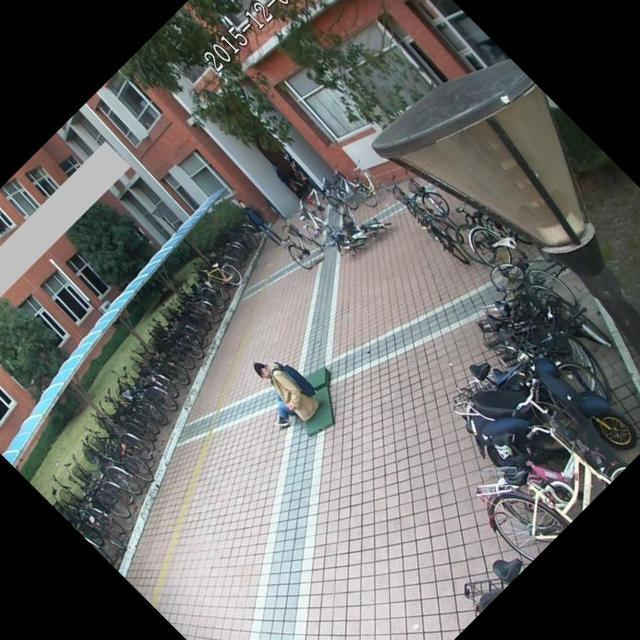person: (228, 339, 329, 440), (228, 190, 290, 252)
